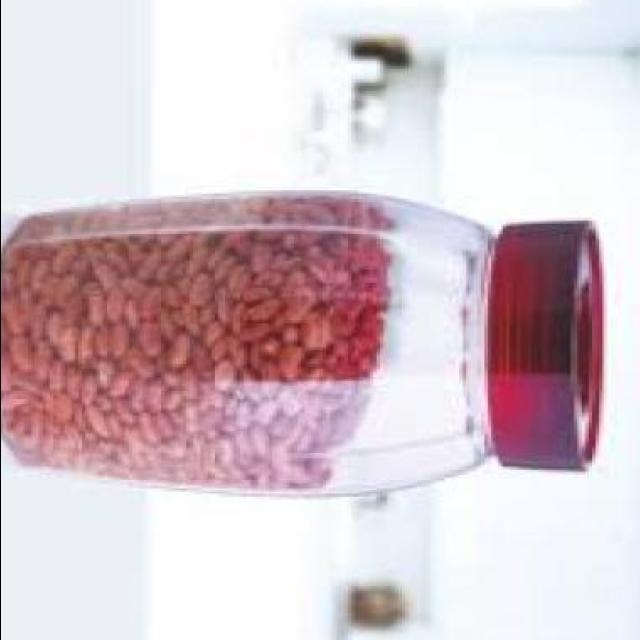kaca: (0, 196, 497, 502)
